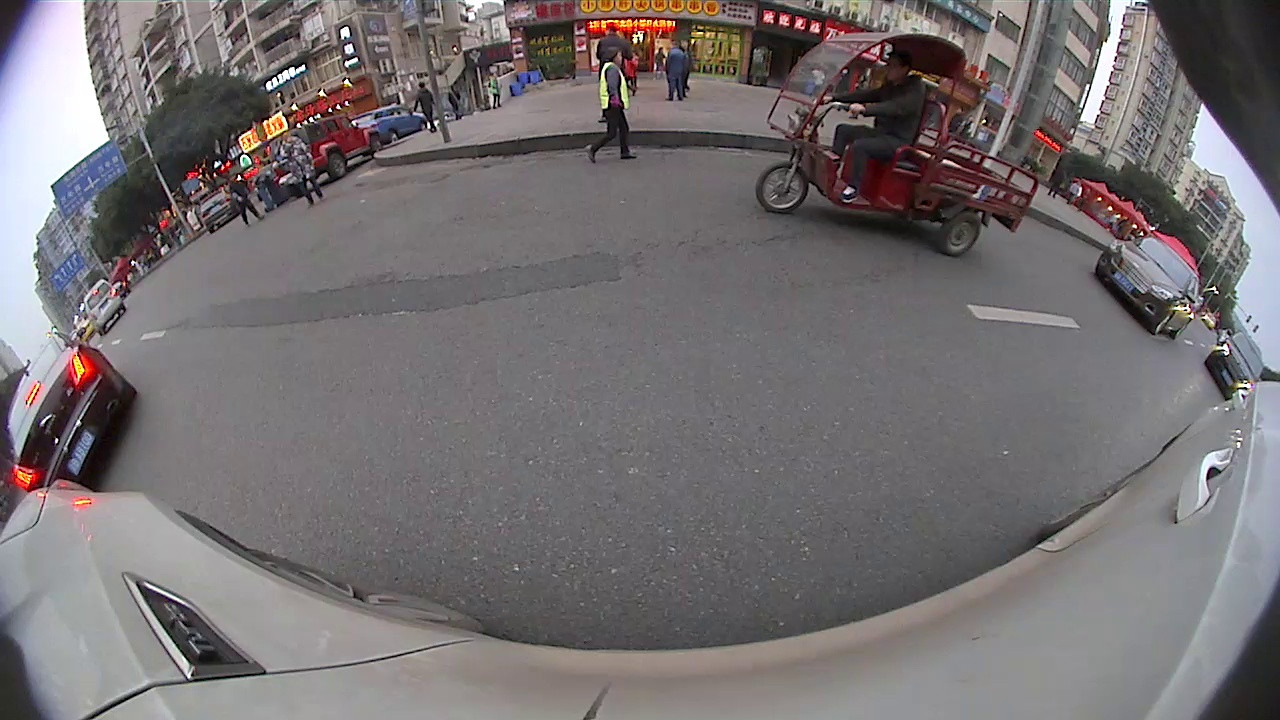car: (0, 325, 143, 495), (1096, 229, 1206, 343), (278, 113, 385, 182), (1205, 329, 1267, 396), (276, 127, 321, 210), (352, 104, 435, 145), (79, 275, 128, 338), (196, 187, 242, 235)
front: (753, 157, 813, 218)
person: (599, 46, 634, 162)
rear: (934, 207, 986, 261)
rider: (758, 31, 1042, 263)
